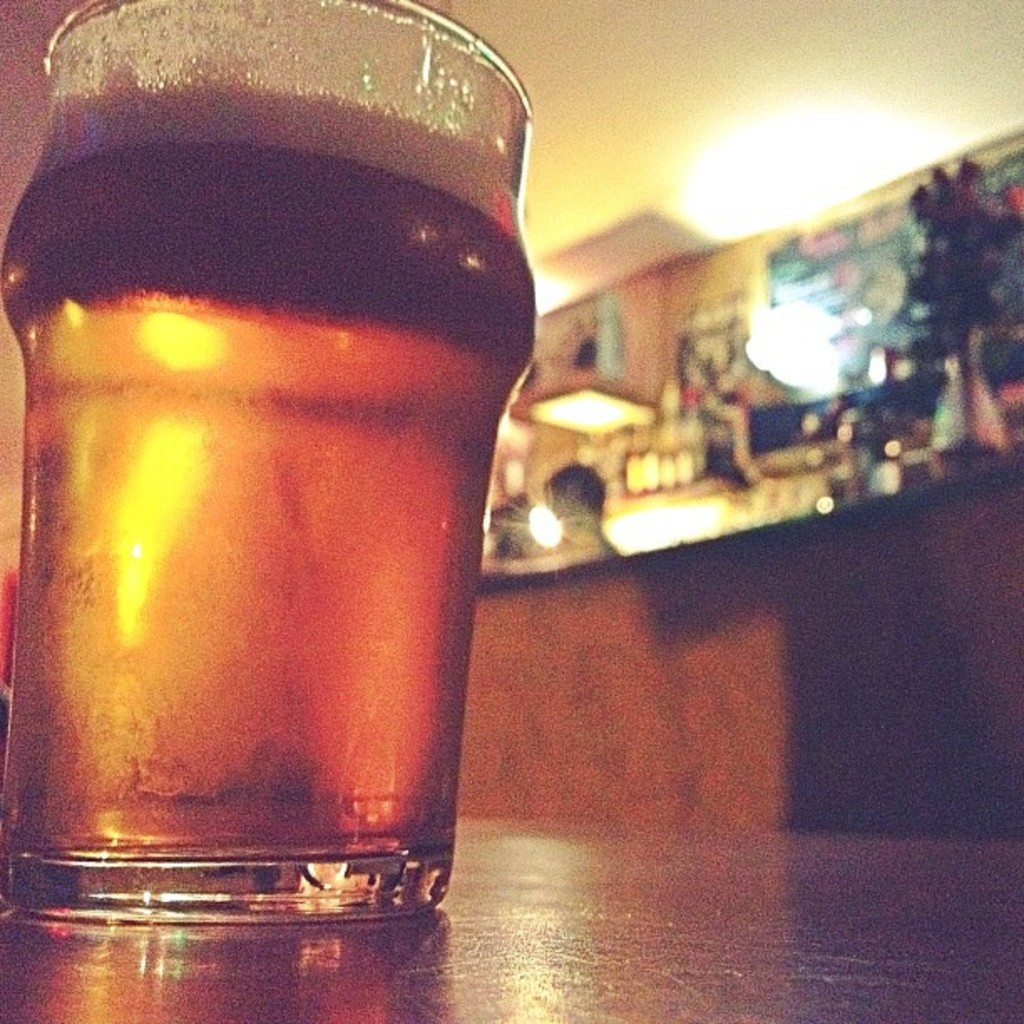Beer: (0, 0, 481, 973)
